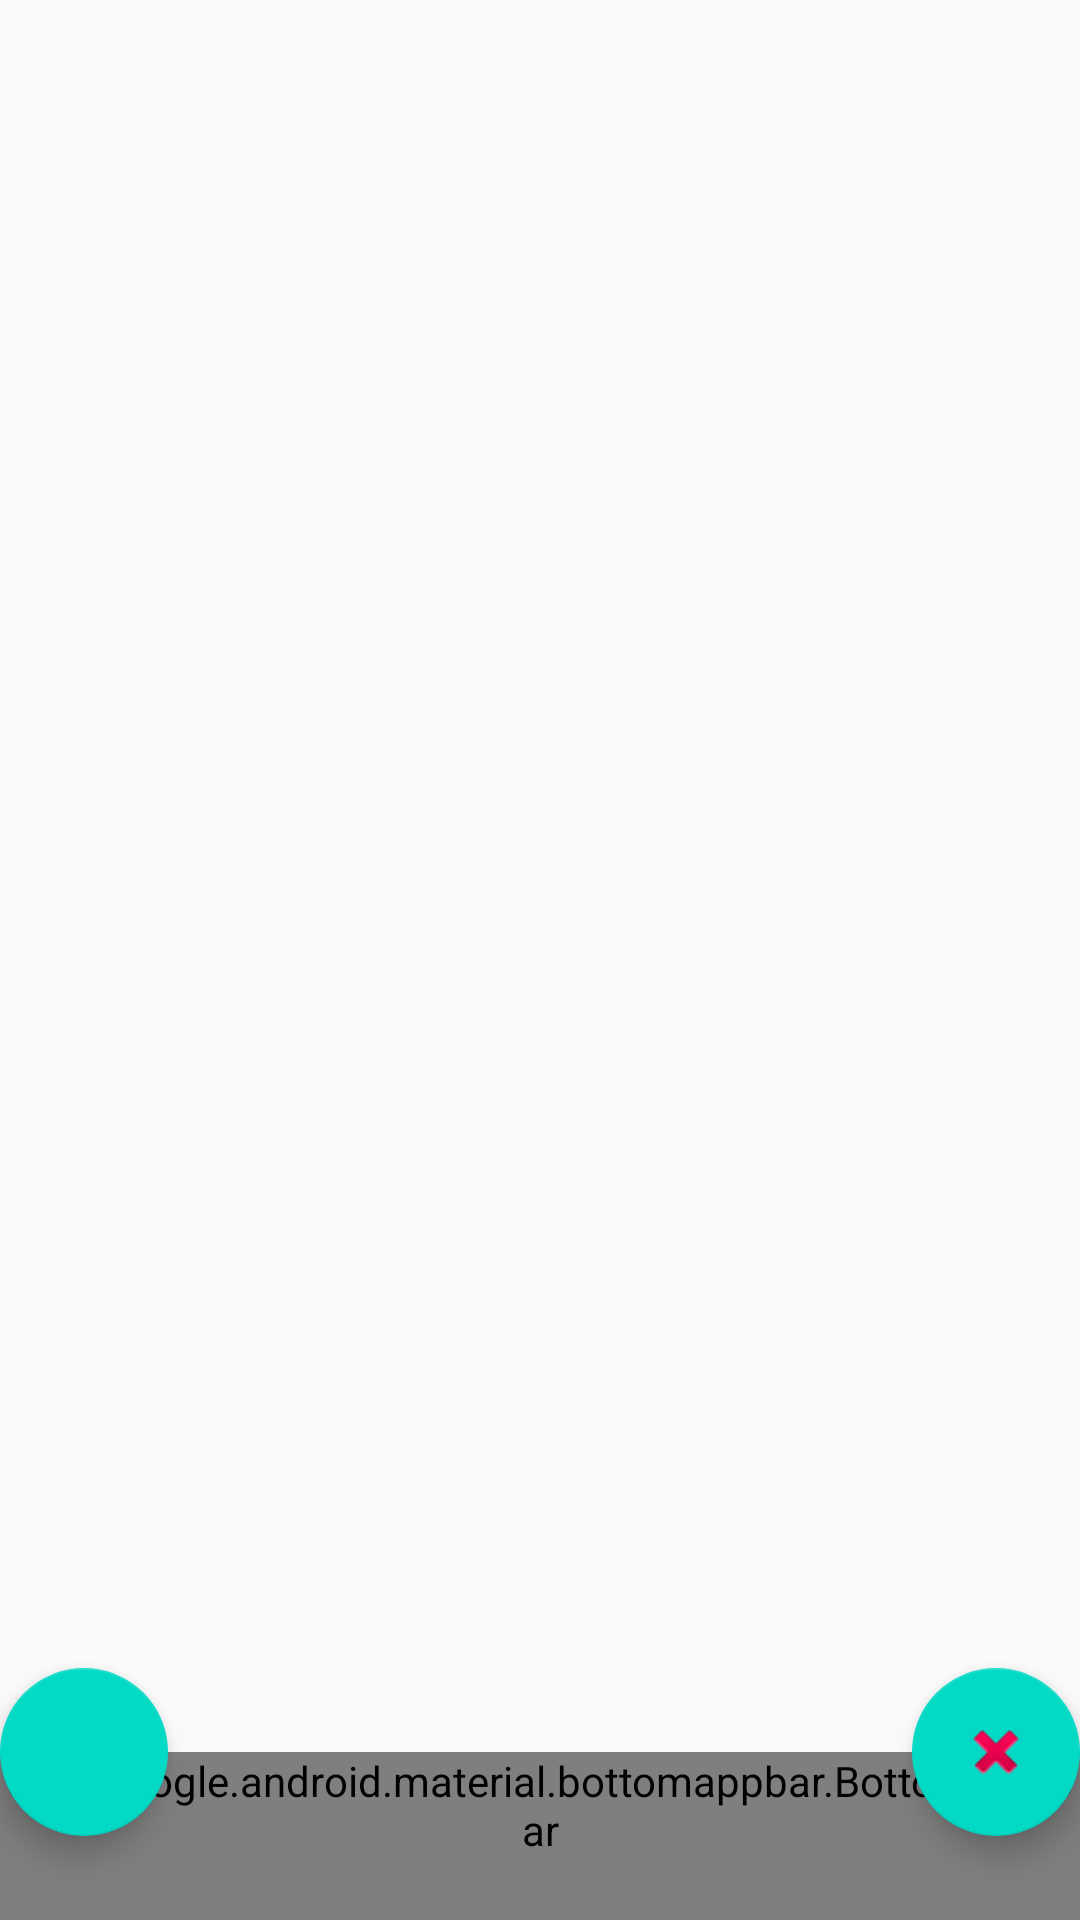

Icons on this 1080x1920 Android screen, each with the point to tap as (x,y):
Cansel: (996,1752)
